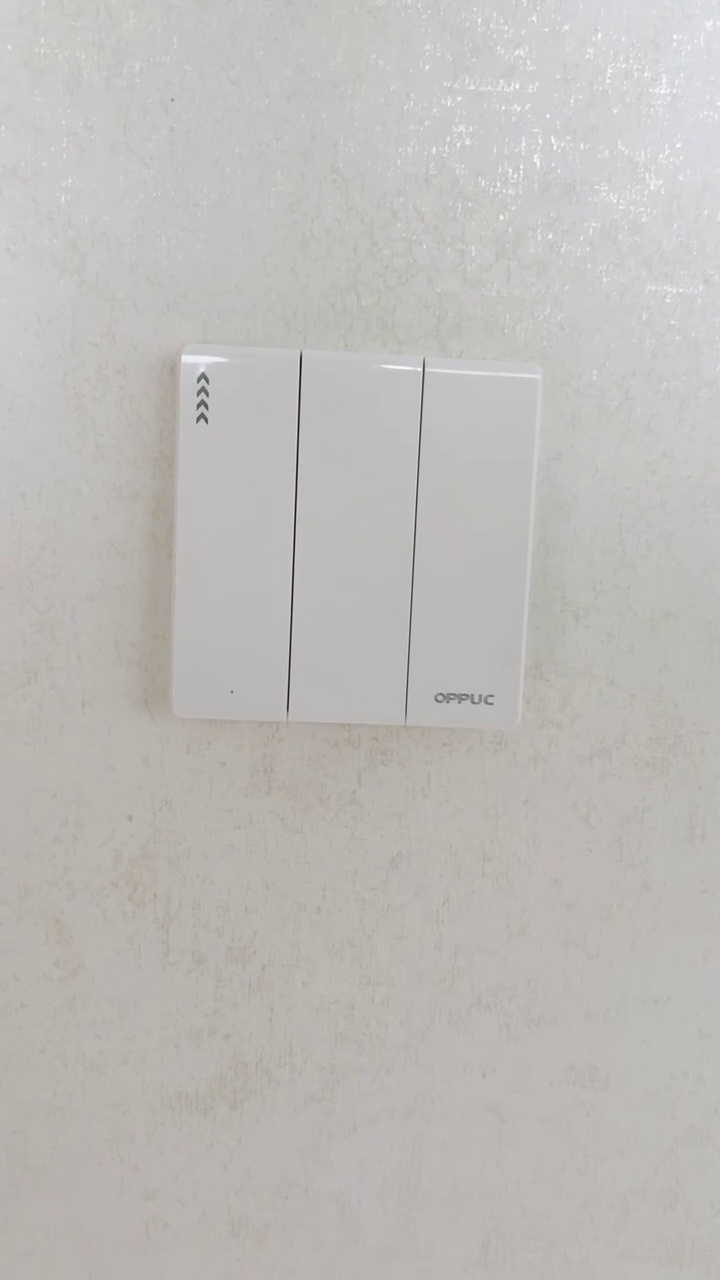button1: (291, 349, 416, 725), (411, 360, 535, 733), (176, 348, 295, 716)
